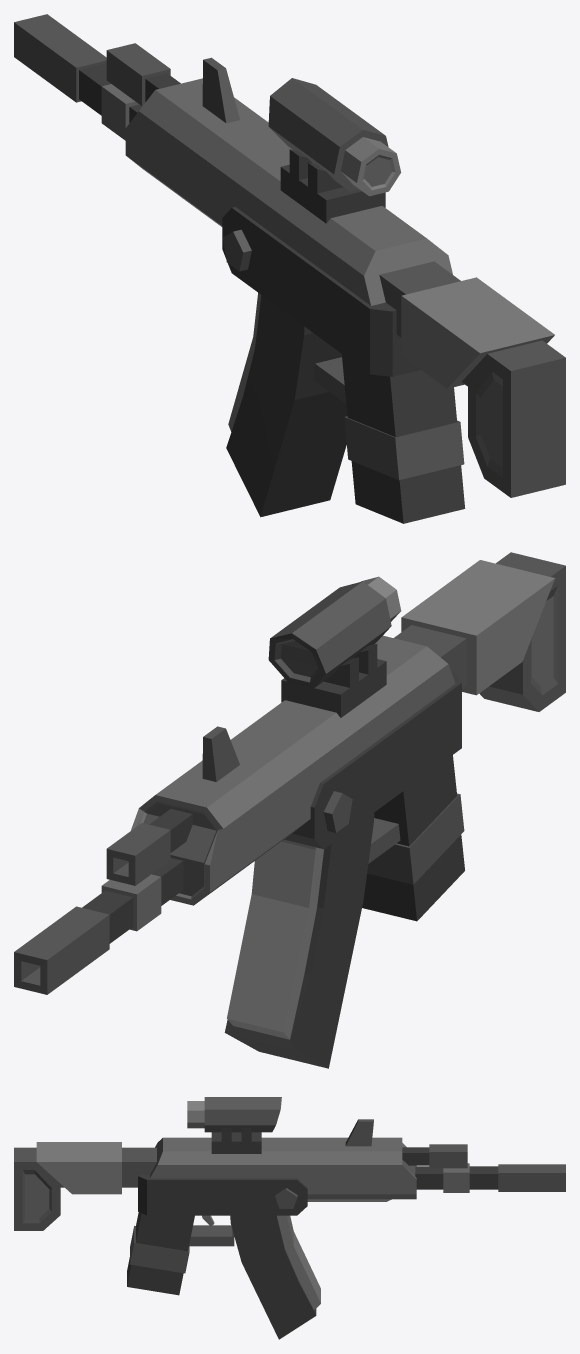
File: subfusil_1.glb
3 renders of one model, top to bottom at view 1: azimuth 30°, elevation 25°; view 2: azimuth 150°, elevation 25°; view 3: azimuth 270°, elevation 25°, orthographic. The views are drawn at different scales.
Parts seen in each view (by area): view 1: subfusil_1, subfusil_charguer_1, subfusil_scope_1; view 2: subfusil_1, subfusil_charguer_1, subfusil_scope_1; view 3: subfusil_1, subfusil_charguer_1, subfusil_scope_1.
Part boxes in pixels (bbox=[...]): subfusil_1: bbox=[14, 14, 565, 523]; subfusil_charguer_1: bbox=[226, 292, 347, 517]; subfusil_scope_1: bbox=[268, 78, 401, 223]; subfusil_1: bbox=[14, 552, 565, 994]; subfusil_charguer_1: bbox=[224, 813, 374, 1068]; subfusil_scope_1: bbox=[268, 576, 401, 717]; subfusil_1: bbox=[14, 1119, 565, 1295]; subfusil_charguer_1: bbox=[230, 1215, 320, 1339]; subfusil_scope_1: bbox=[187, 1097, 281, 1153].
Size of the model in its own units: 0.3192 by 1.19 by 2.55.
Materials: 1 (1 with a texture image).
